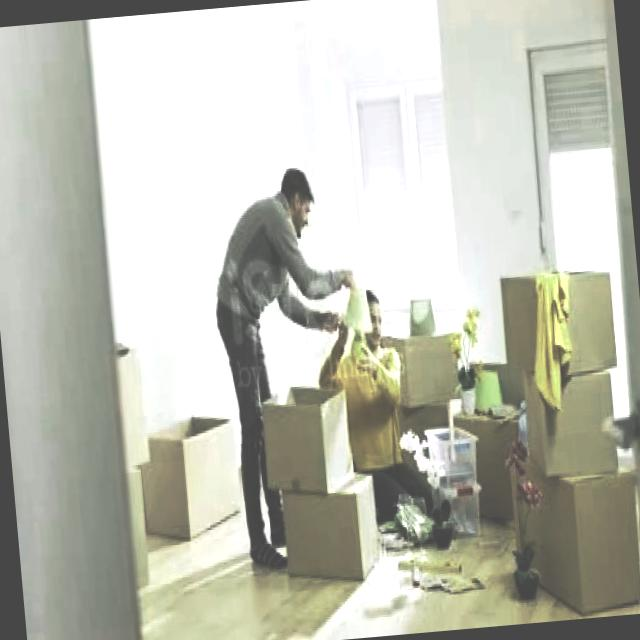Box: (518, 444, 640, 608), (495, 261, 627, 380), (274, 463, 384, 582), (150, 404, 243, 539), (520, 370, 626, 484), (260, 378, 353, 502)
